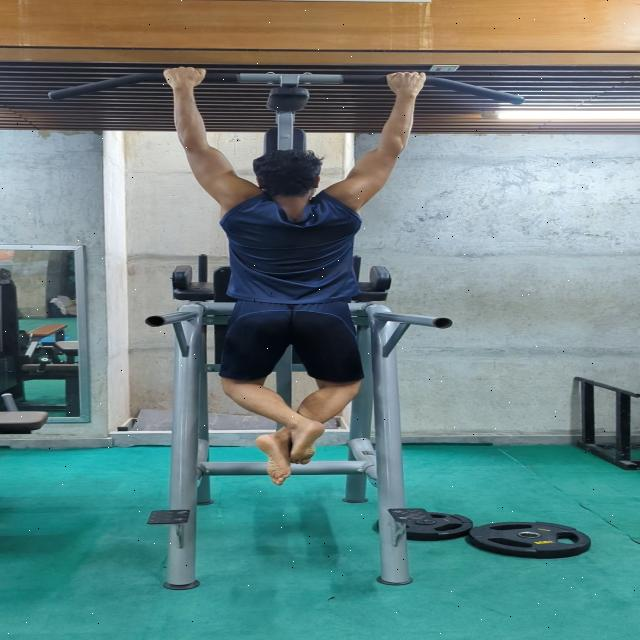Normal_PullUps: (158, 65, 430, 489)
